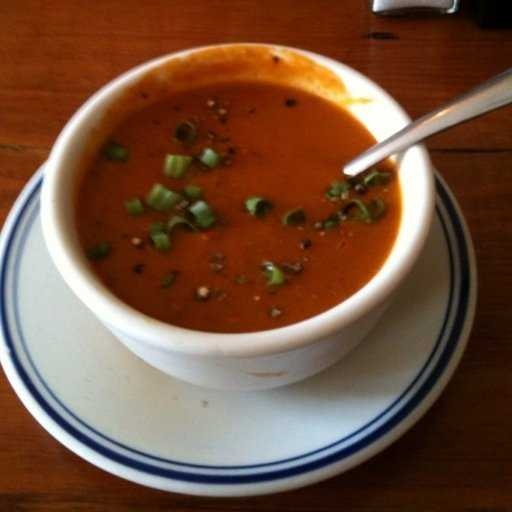soup: (34, 56, 431, 336)
